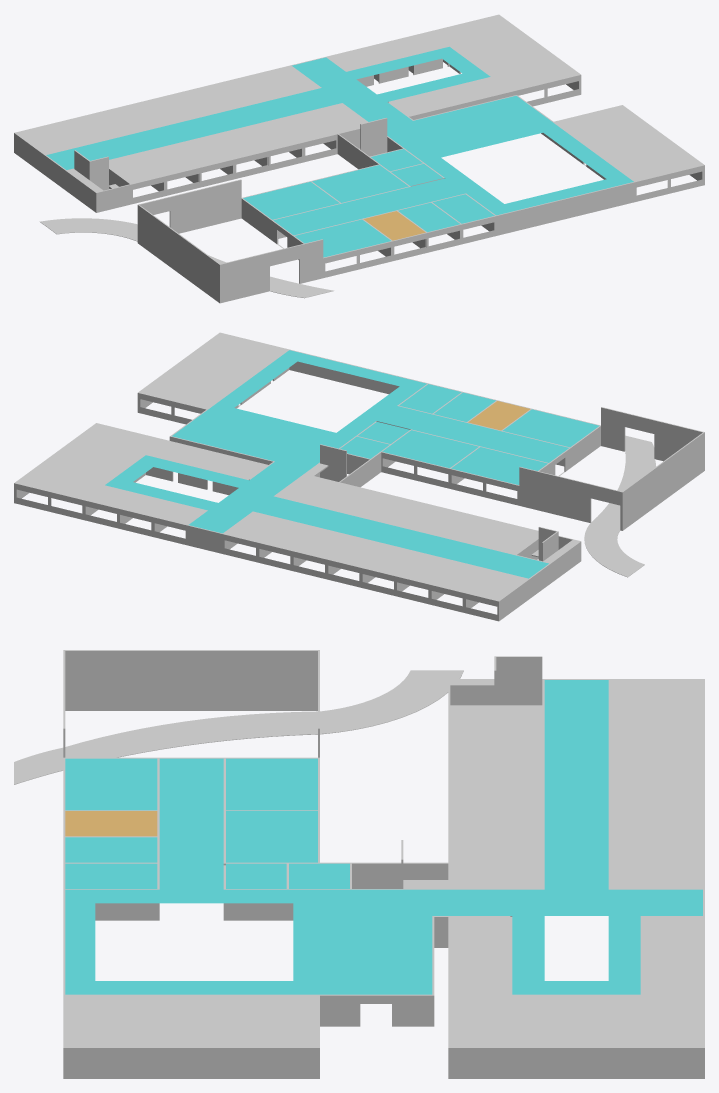
Rendered from 2ndFloor_Floor.fbx.
3 views of the same model, one above another, from view 1: azimuth 30°, elevation 25°; view 2: azimuth 150°, elevation 25°; view 3: azimuth 270°, elevation 25° (orthographic). The views are drawn at different scales.
Visible parts, largest first — view 1: SketchUp; view 2: SketchUp; view 3: SketchUp.
Boxes of the visible parts, x1,y1,x2,y2 form: SketchUp: [14, 14, 704, 303]; SketchUp: [14, 332, 704, 621]; SketchUp: [14, 650, 704, 1078].
Size of the model in its own units: 9027 by 620 by 6461.
